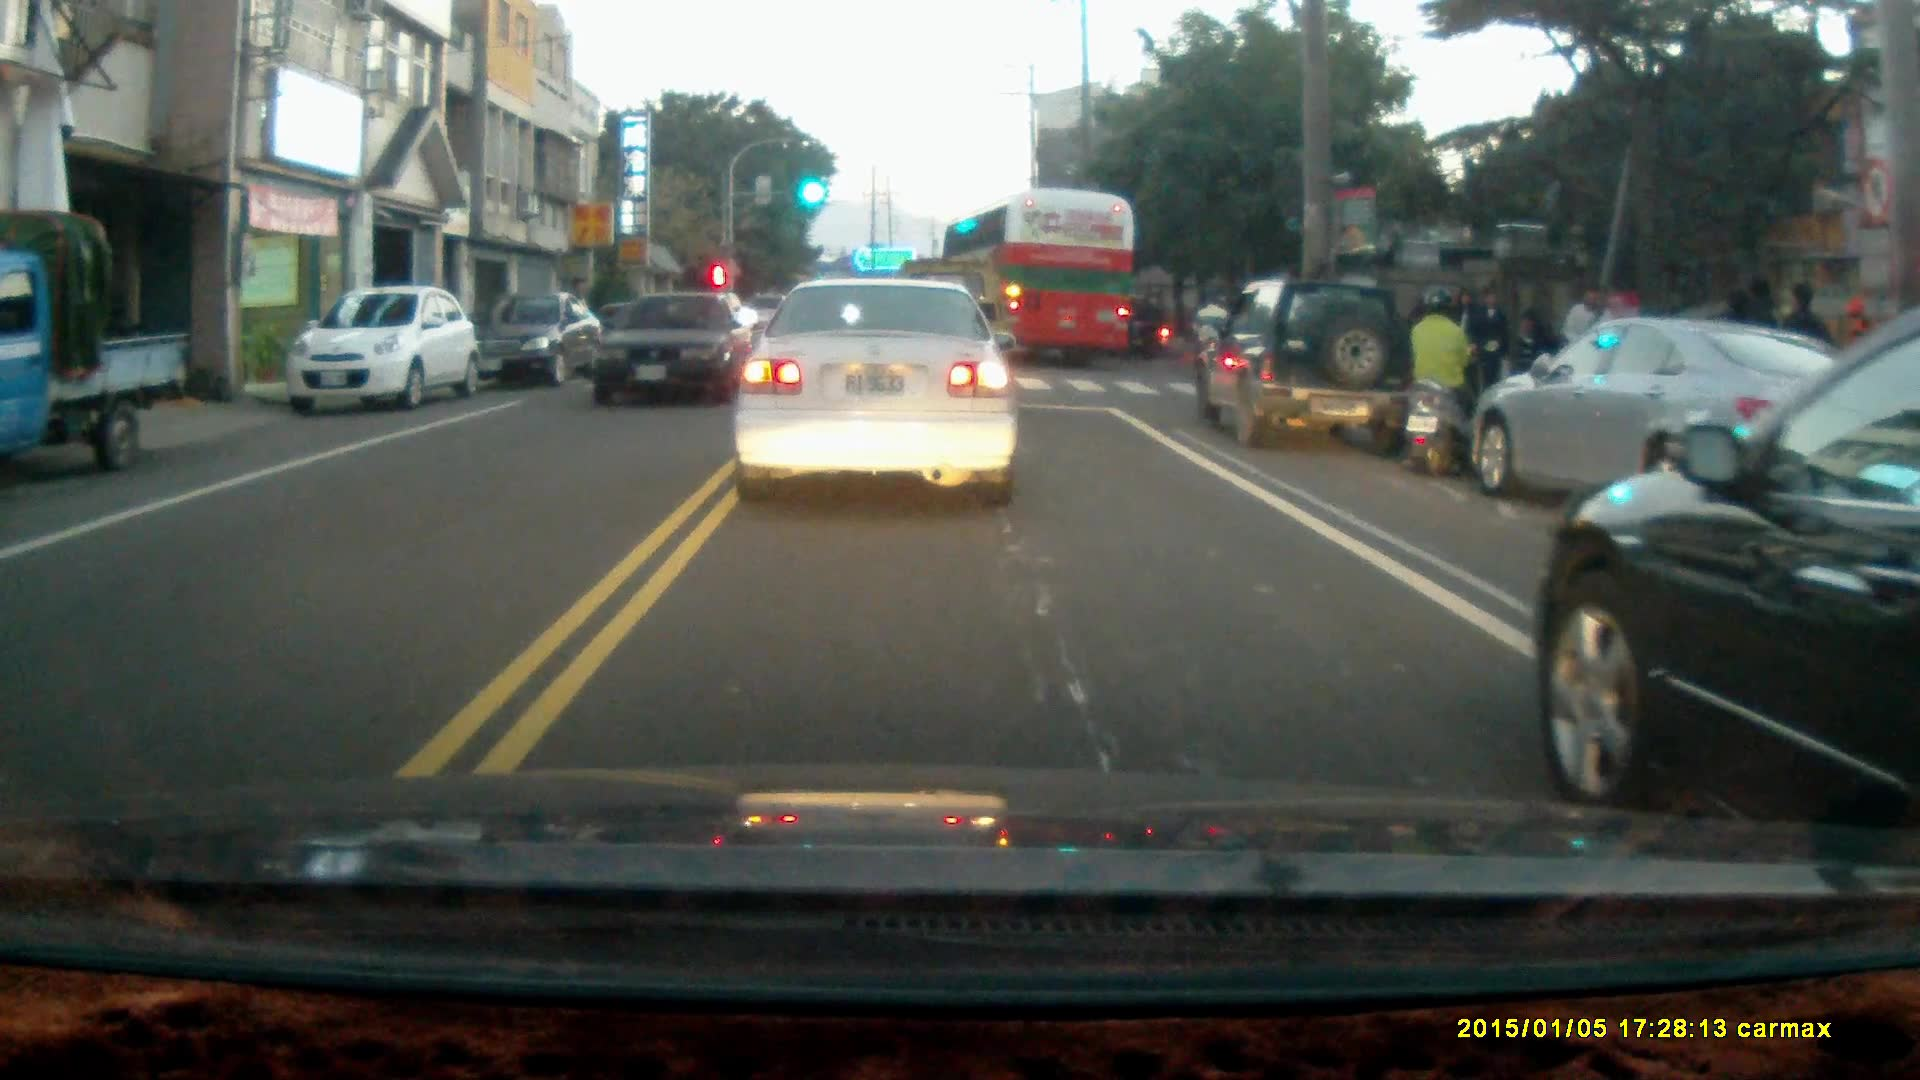pedestrian: (1557, 275, 1617, 405), (1466, 283, 1515, 414)
rider: (1402, 283, 1486, 479), (1114, 293, 1173, 357)
vehicle: (1545, 323, 1920, 814), (1474, 315, 1842, 520), (729, 271, 1023, 509), (1, 213, 196, 475), (1197, 275, 1424, 451), (945, 188, 1143, 369), (288, 288, 478, 411), (588, 287, 750, 410), (478, 288, 599, 386)
